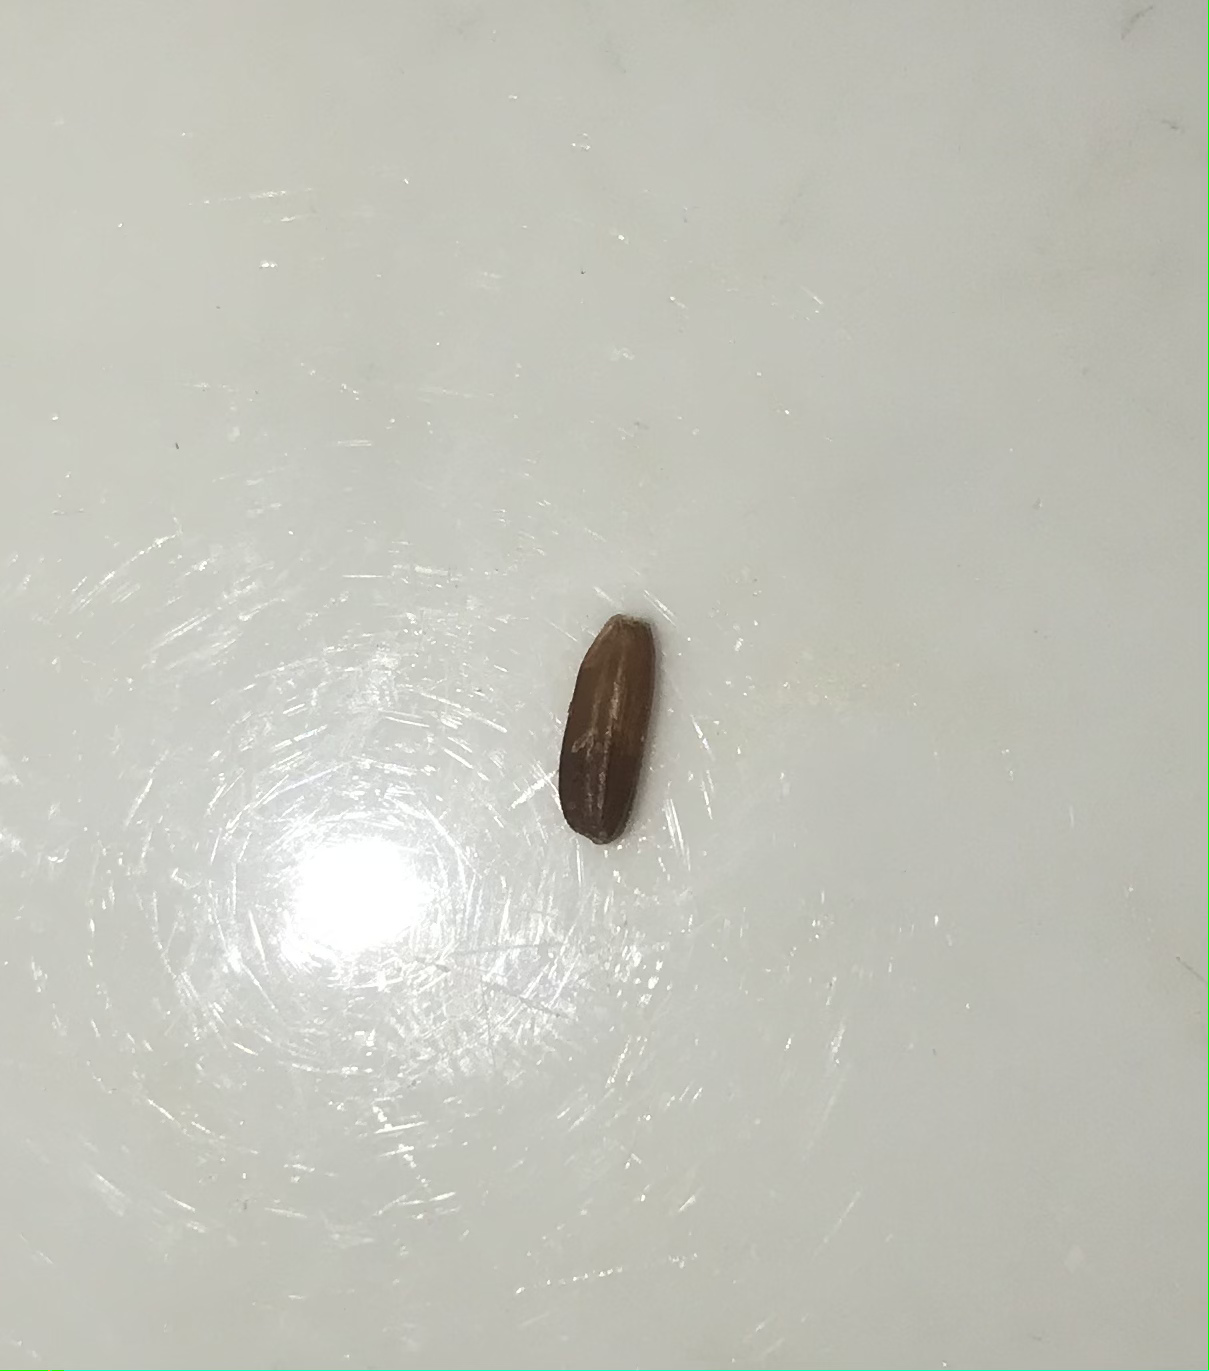Gao Lut Do: (552, 604, 682, 866)
